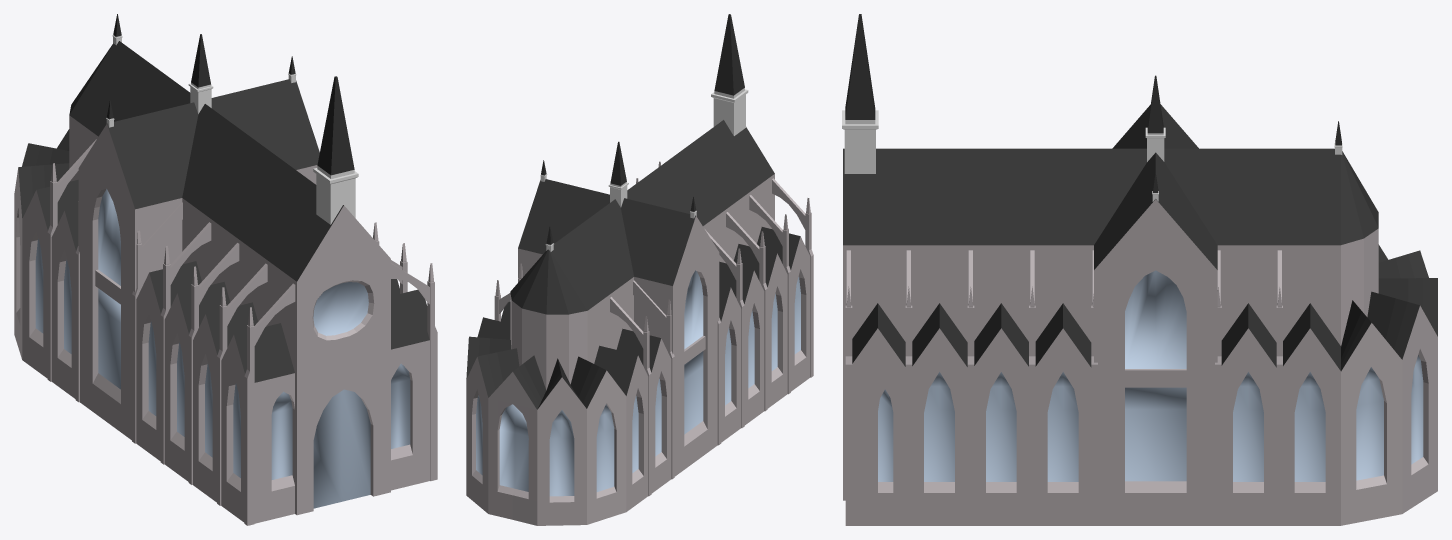
File: église.fbx
3 views of the same model, side by side, from view 1: azimuth 30°, elevation 25°; view 2: azimuth 150°, elevation 25°; view 3: azimuth 270°, elevation 25° (orthographic). The views are drawn at different scales.
Visible parts, largest first — view 1: Cube; view 2: Cube; view 3: Cube.
Part boxes in pixels (x1=…): Cube: x1=14, y1=14, x2=437, y2=525; Cube: x1=466, y1=14, x2=813, y2=525; Cube: x1=842, y1=14, x2=1437, y2=525.
Bounding box in the file's own units: 138 × 292 × 343.
